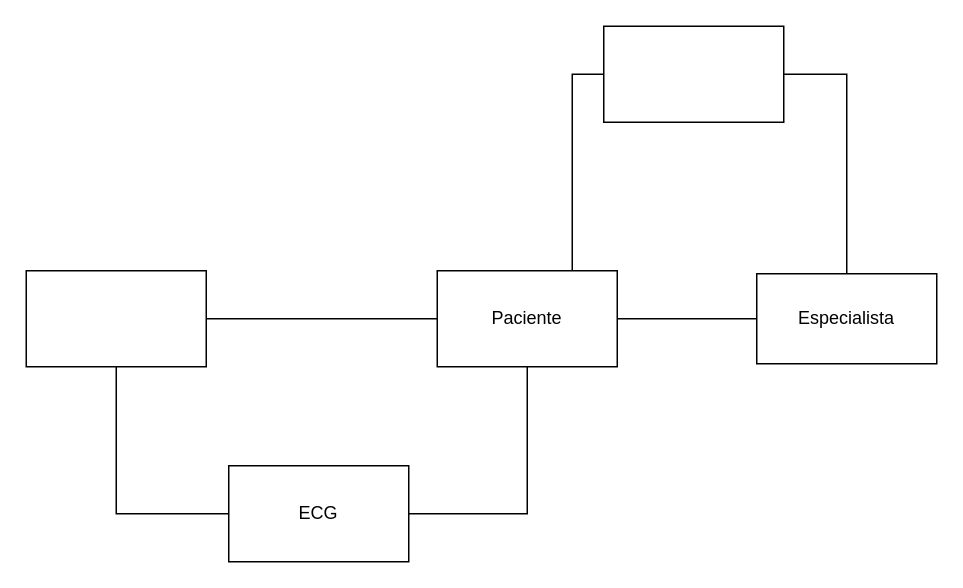
Some shapes in this 963 by 588 pixel diagram are drawn without their labels. Each missing label, with the centre of its shape:
Dispositivo: (x=115, y=318)
Mensaje: (x=693, y=73)
